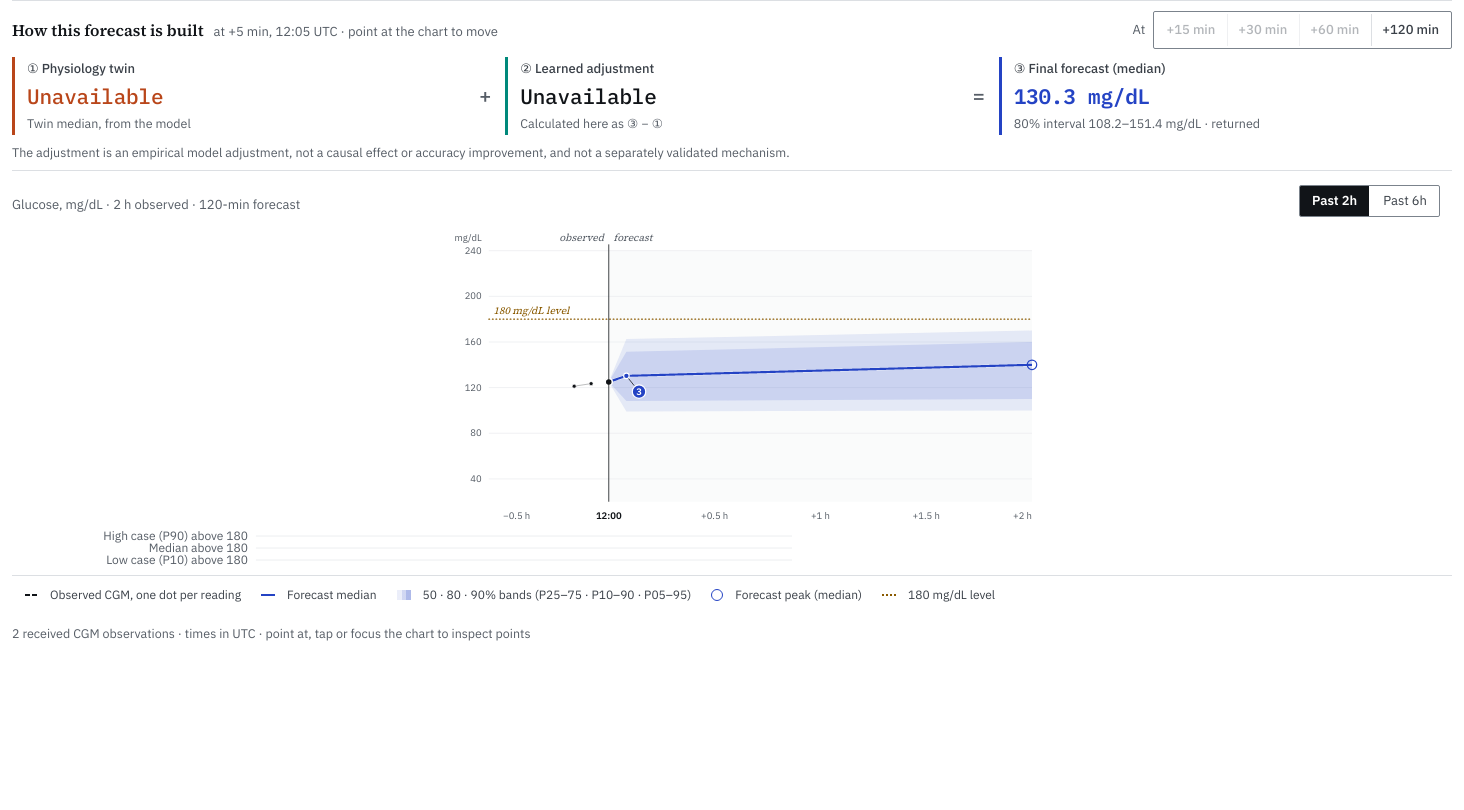
Observed and forecast inspection › supports keyboard traversal, exact timestamps, quantiles, horizon, and Escape without changing source data
Focus the picture at (732, 376), box top-left (12, 226), bottom-right (1452, 526)
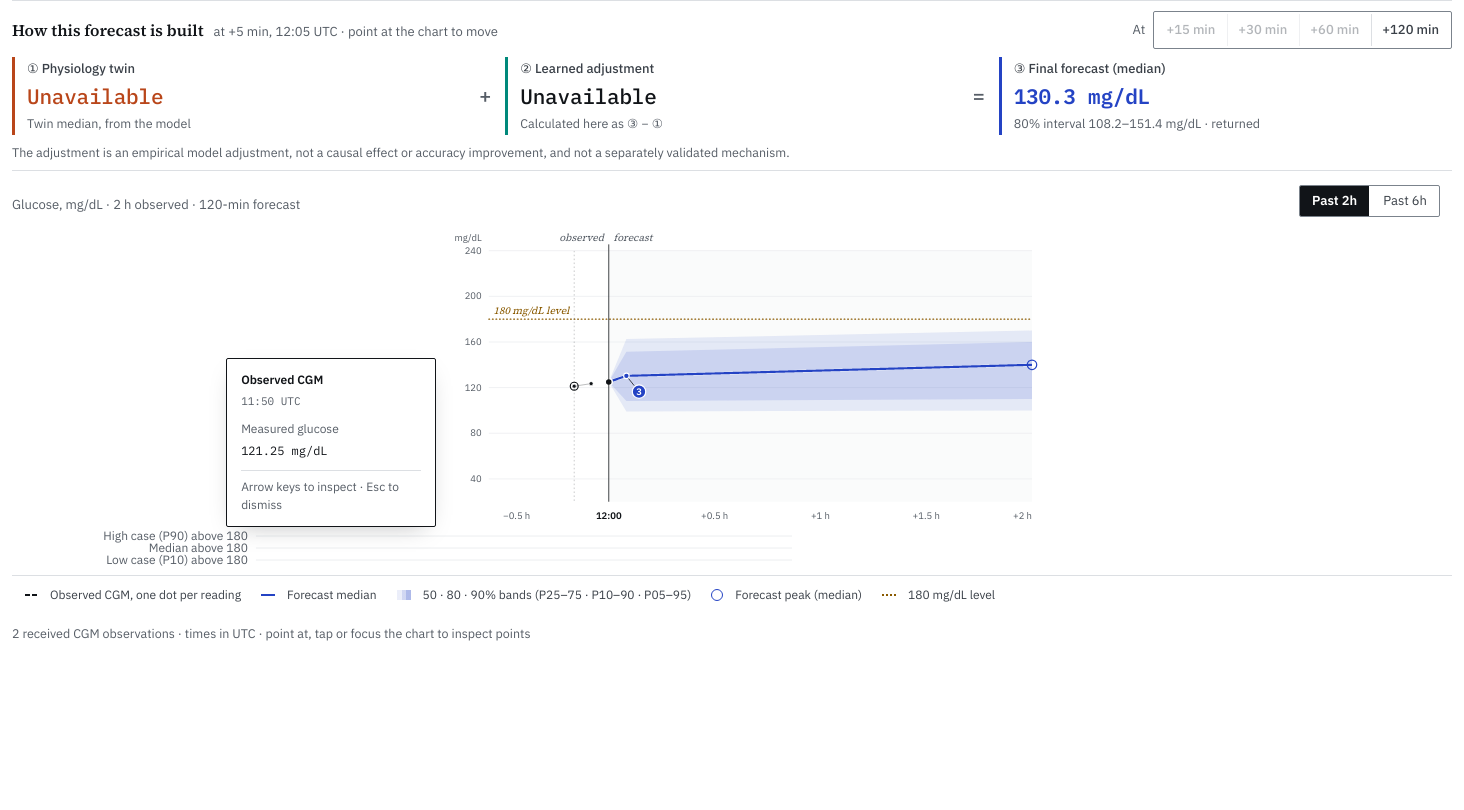
Result: the text "121.25 mg/dL" is shown at top-left (241, 442), bottom-right (328, 460)
Press ArrowRight in the picture, box top-left (12, 226), bottom-right (1452, 526)
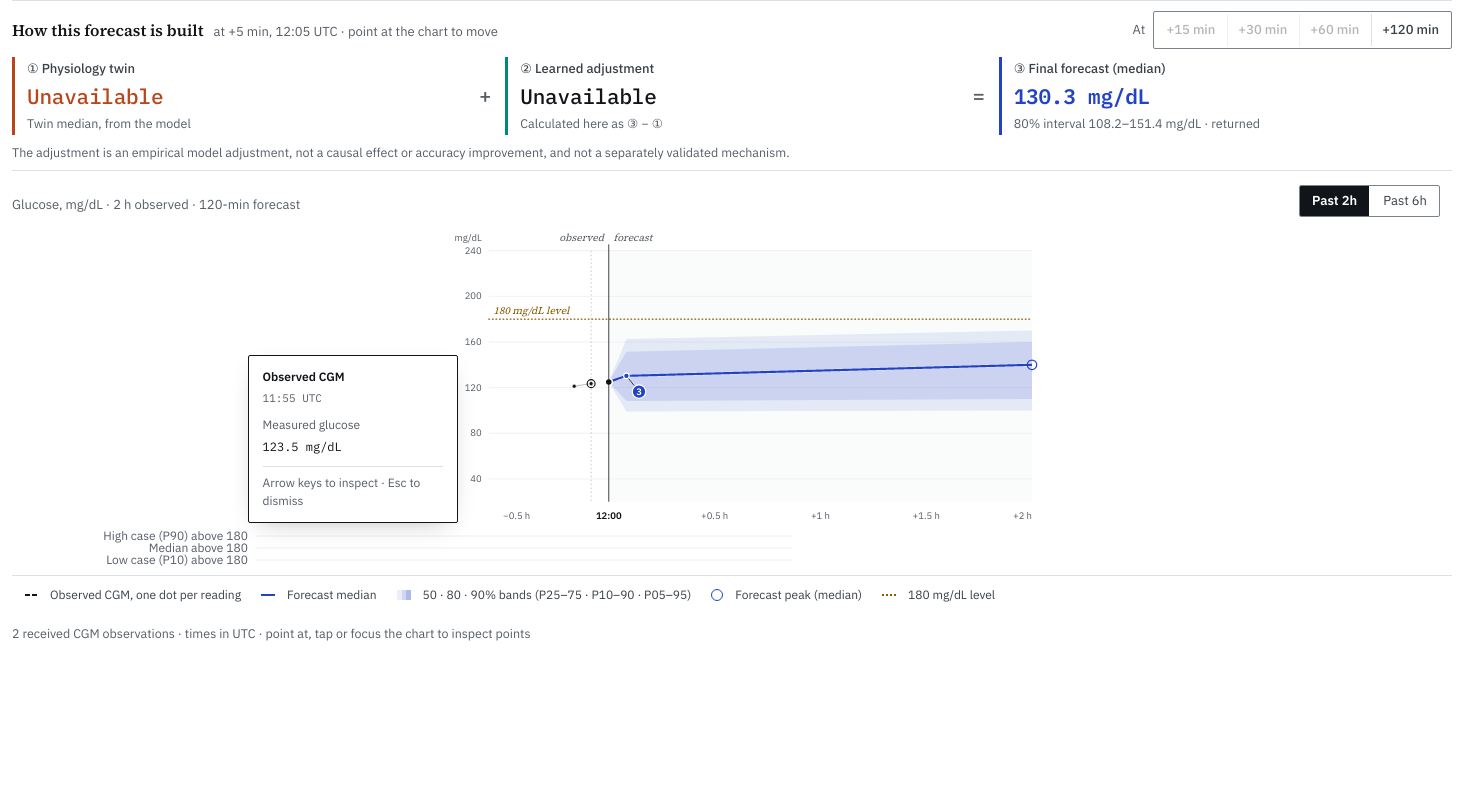
Press ArrowRight in the picture, box top-left (12, 226), bottom-right (1452, 526)
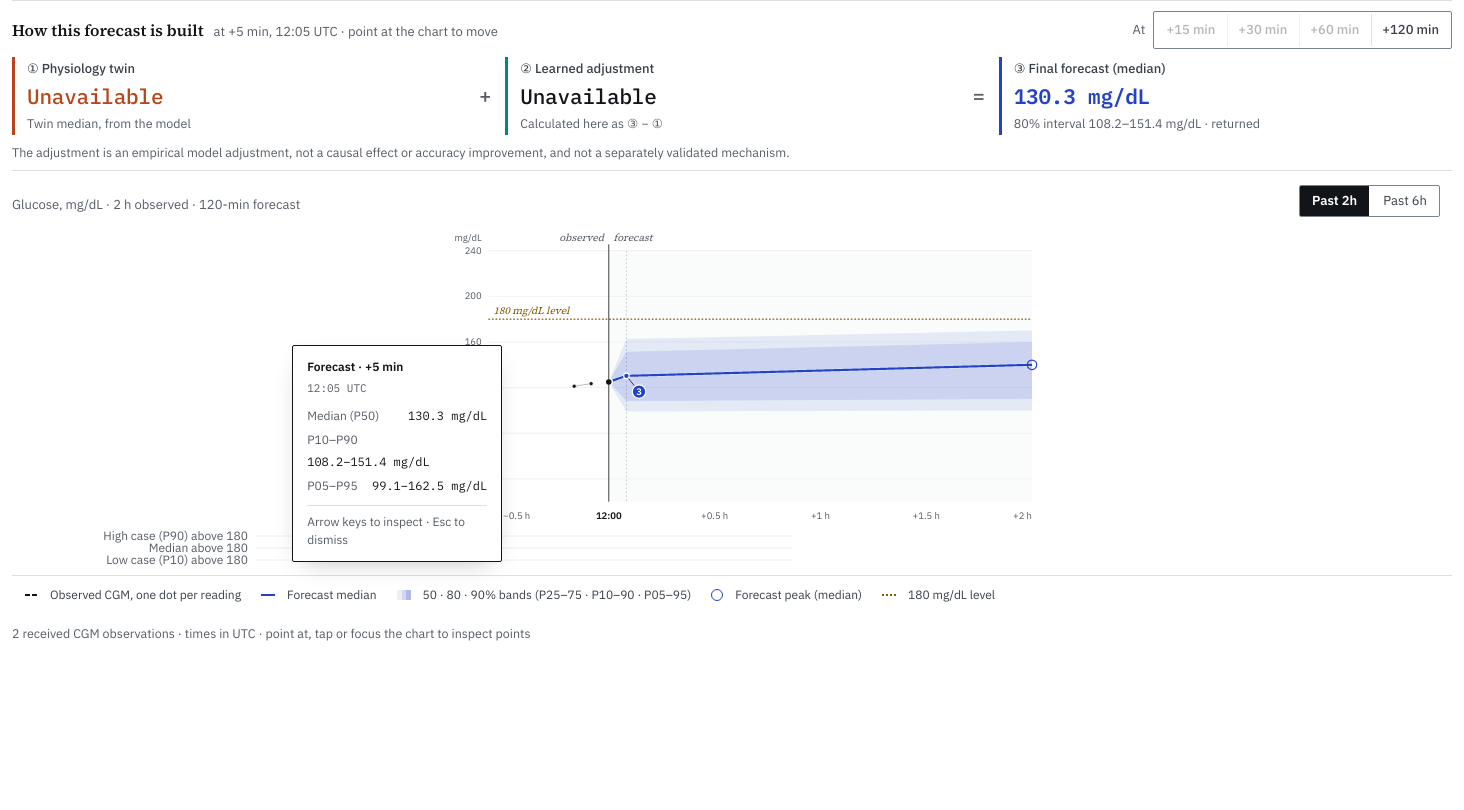
Result: the text "Forecast · +5 min" is shown at top-left (307, 359), bottom-right (403, 374)
Result: the text "130.3 mg/dL" next to "Median (P50)" is shown at top-left (408, 407), bottom-right (487, 425)
Result: the text "108.2–151.4 mg/dL" is shown at top-left (307, 453), bottom-right (430, 471)
Press End in the picture, box top-left (12, 226), bottom-right (1452, 526)
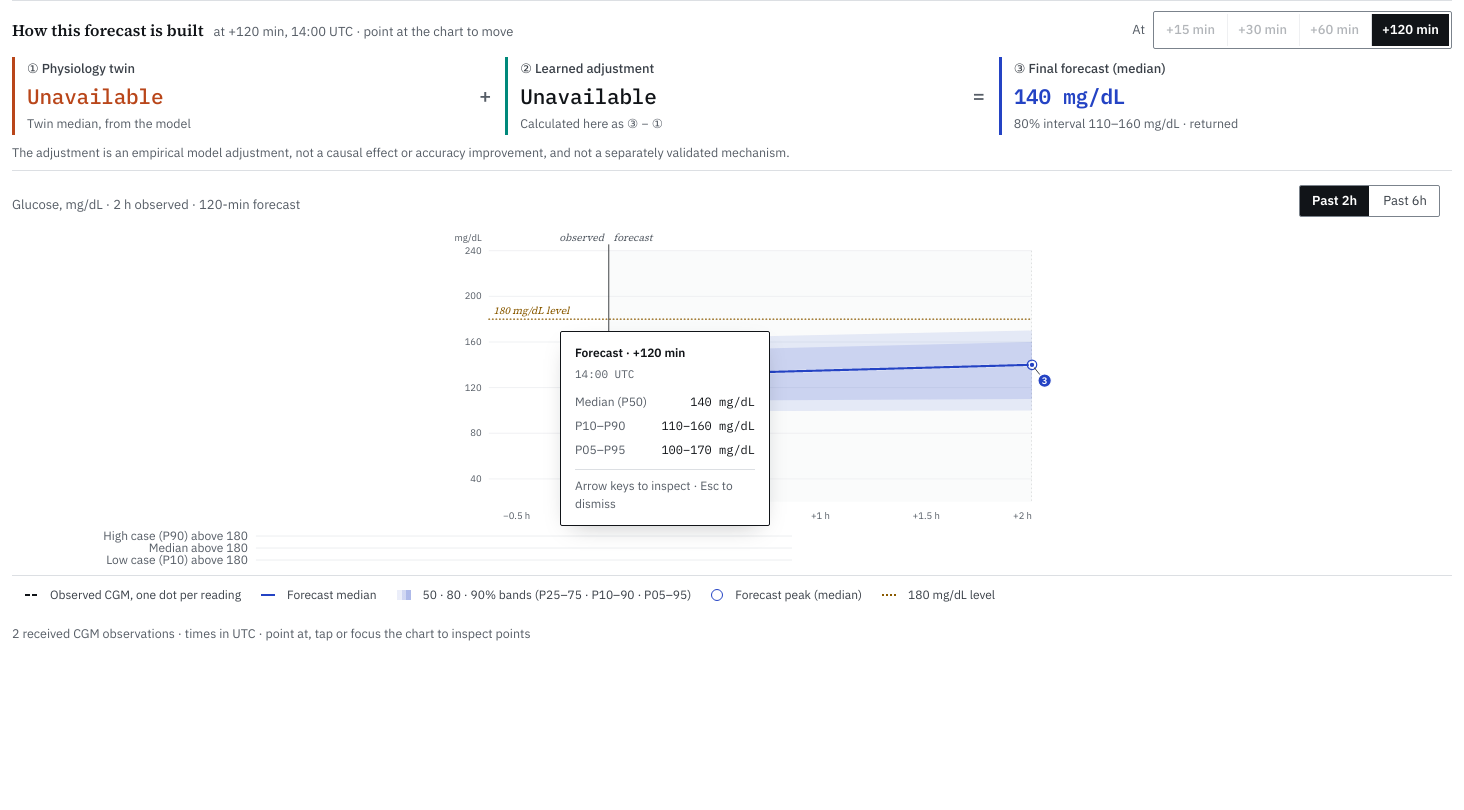
Press Escape
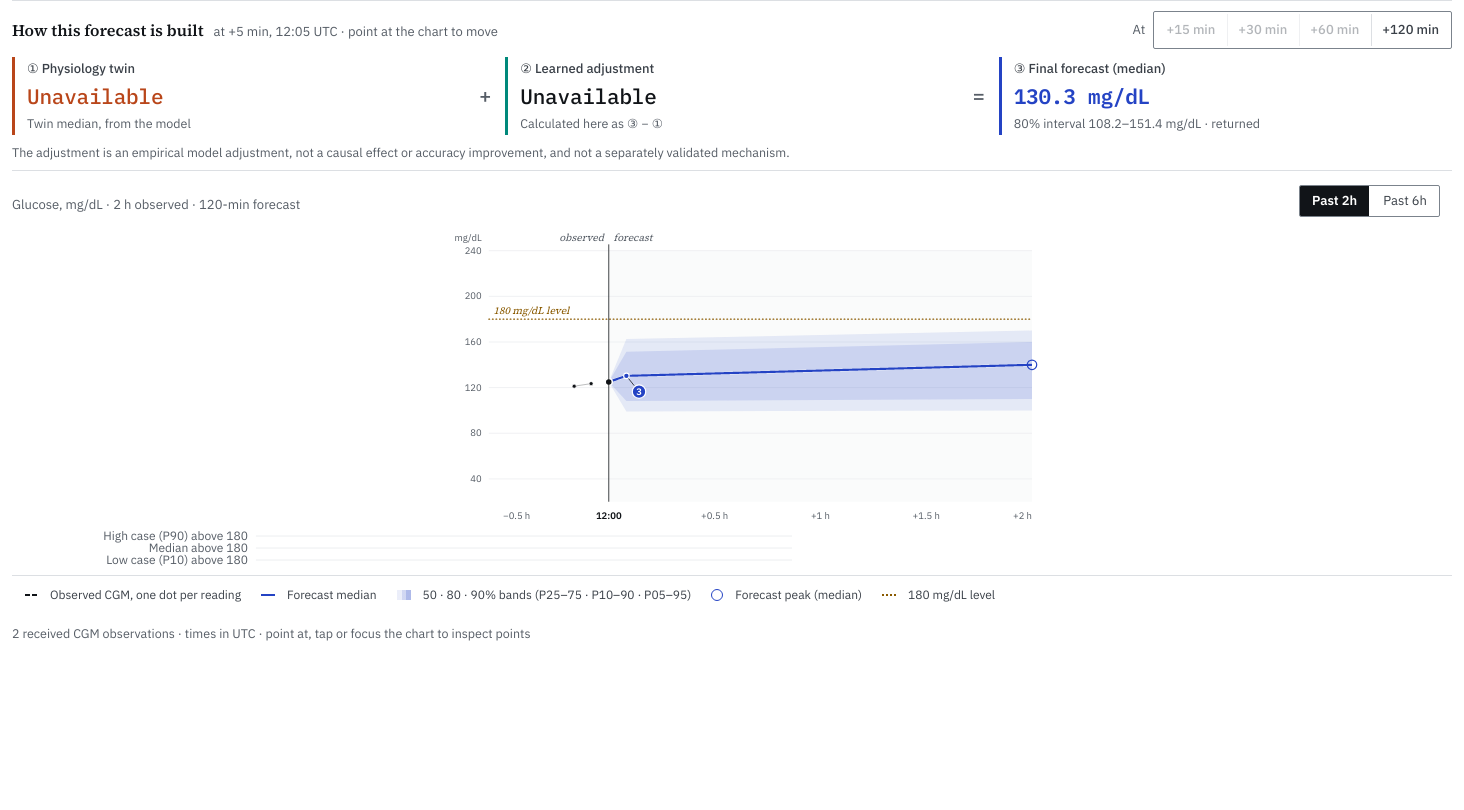
Result: the tooltip is gone
Press Home in the picture, box top-left (12, 226), bottom-right (1452, 526)
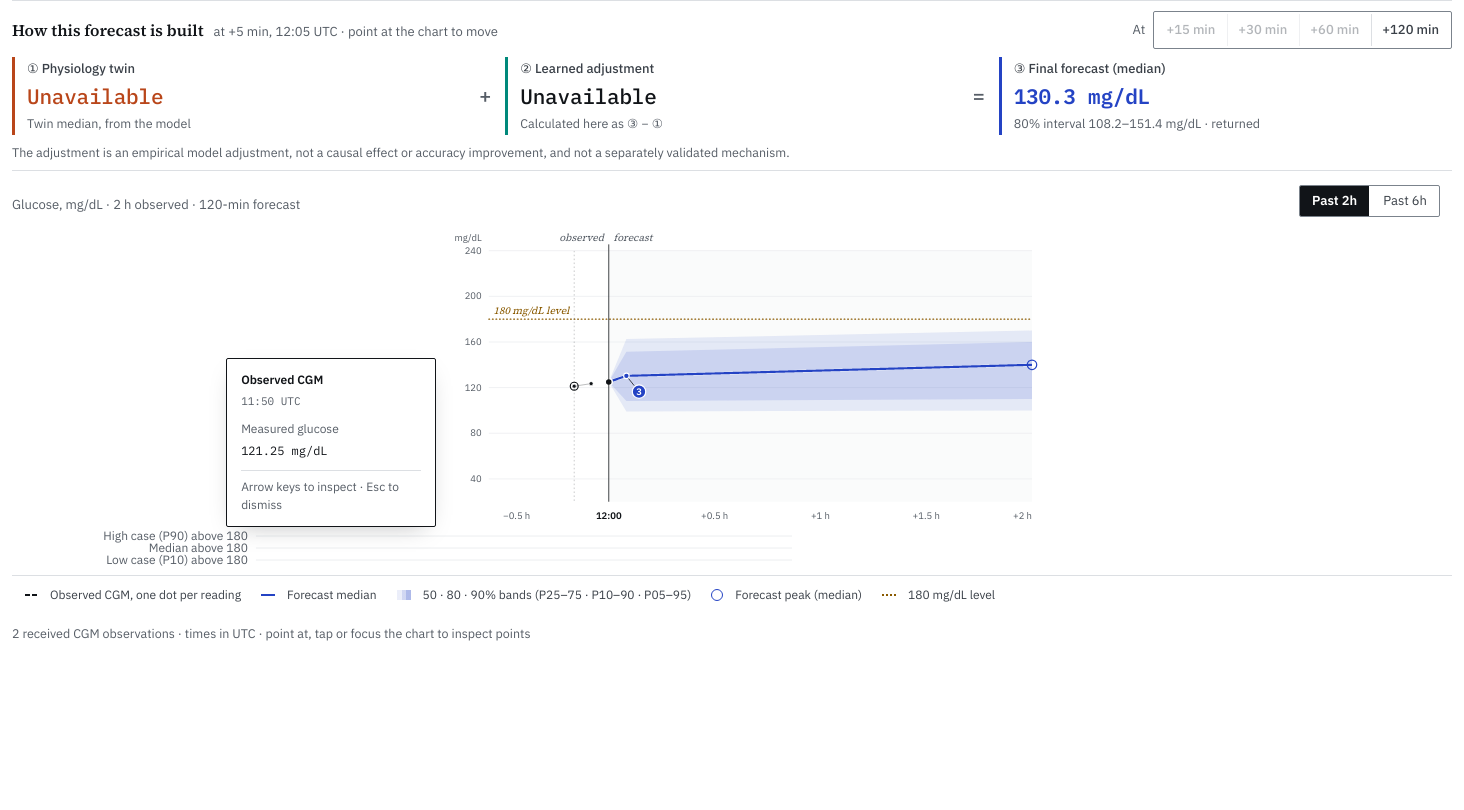
Result: the text "Observed CGM" is shown at top-left (241, 372), bottom-right (323, 387)
